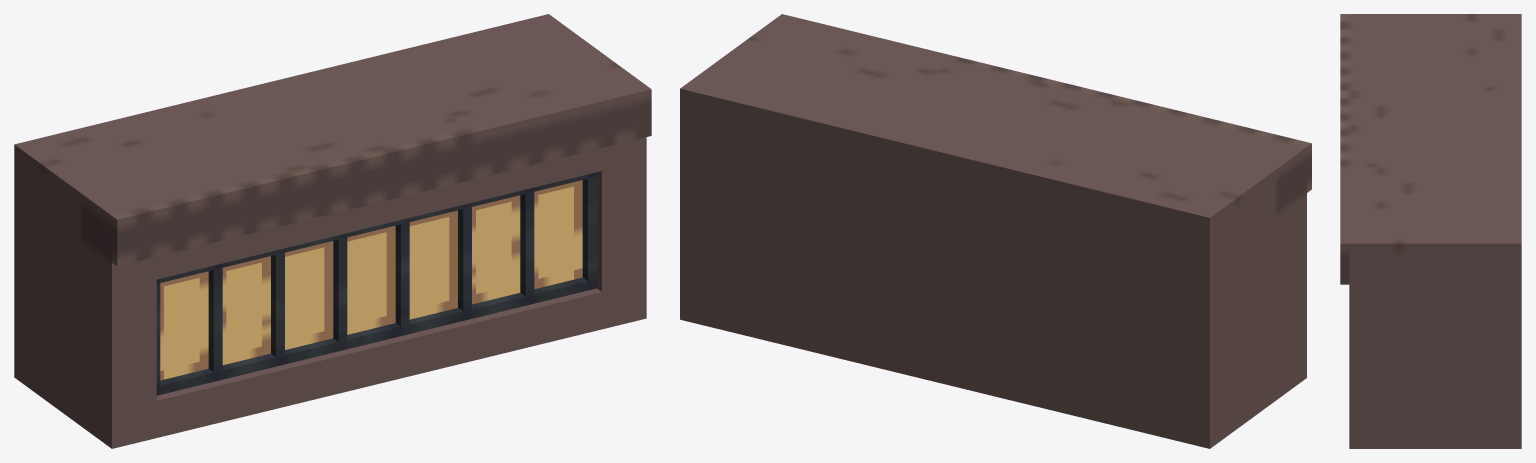
File: BuildingBlock-2.fbx
3 views of the same model, side by side, from view 1: azimuth 30°, elevation 25°; view 2: azimuth 150°, elevation 25°; view 3: azimuth 270°, elevation 25° (orthographic). The views are drawn at different scales.
Visible parts, largest first — view 1: BuildingBlock_2; view 2: BuildingBlock_2; view 3: BuildingBlock_2.
Boxes of the visible parts, x1,y1,x2,y2 form: BuildingBlock_2: (14,14,651,448); BuildingBlock_2: (680,14,1311,448); BuildingBlock_2: (1340,14,1521,448).
Size of the model in its own units: 600 by 250 by 200.
Materials: 2 (2 with a texture image).
